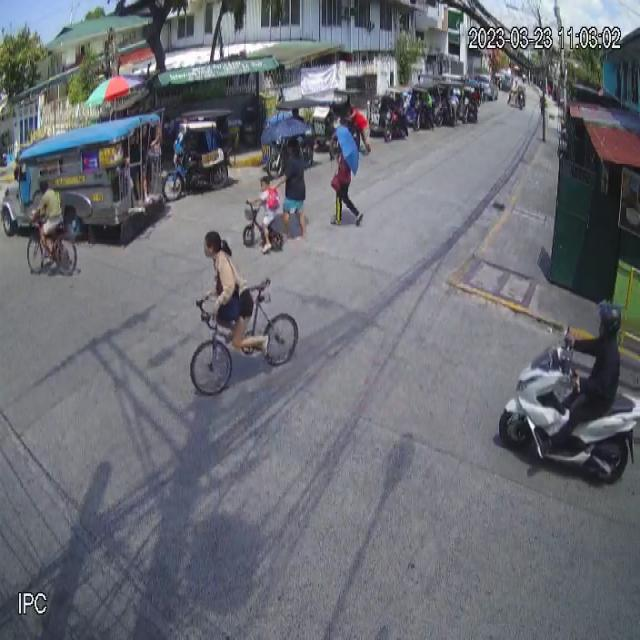Jeep: (0, 110, 164, 242)
Motorcycle: (496, 325, 640, 483)
